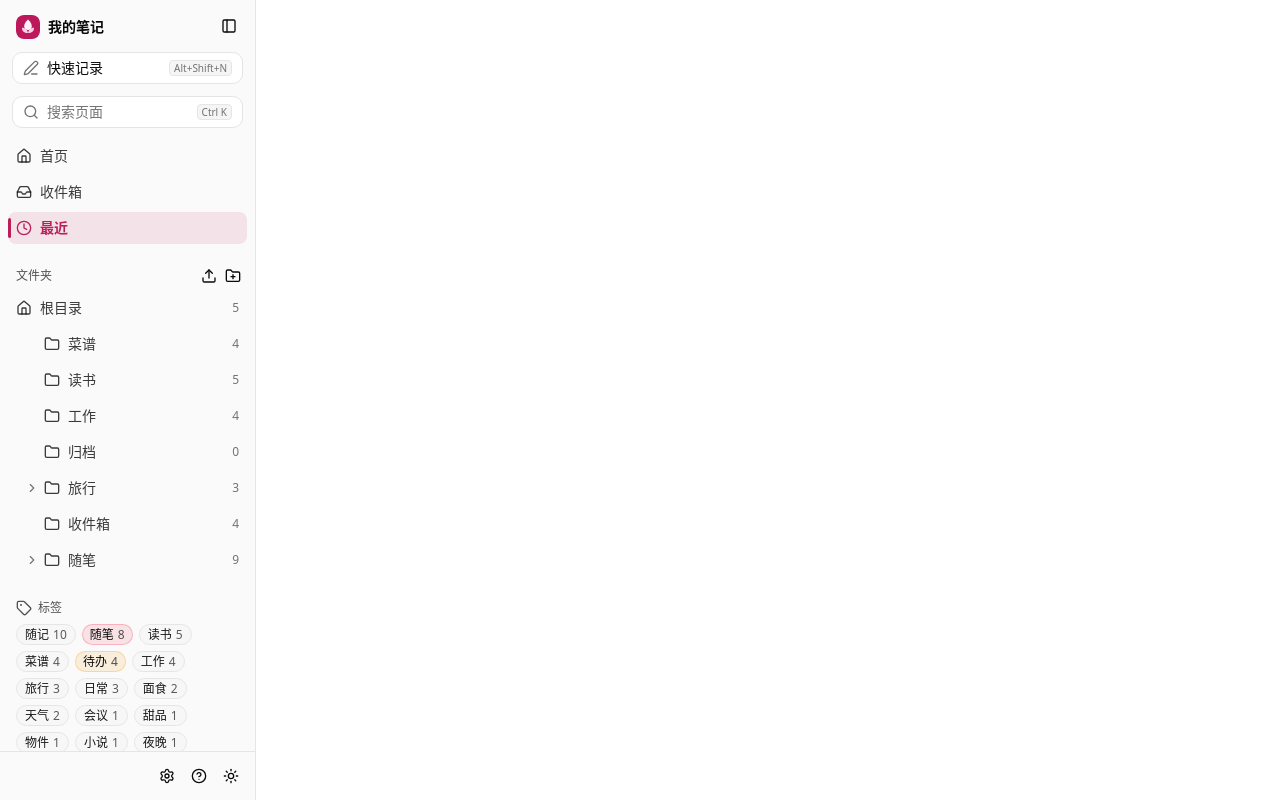
the sidebar tags › Custom… opens a hex dialog; Apply sends the lower-case colour and the tag is tinted and marked
Later steps or results of the test are not shown.
Right-click the link "日常 3": (101, 688) x1=75 y1=678 x2=128 y2=699
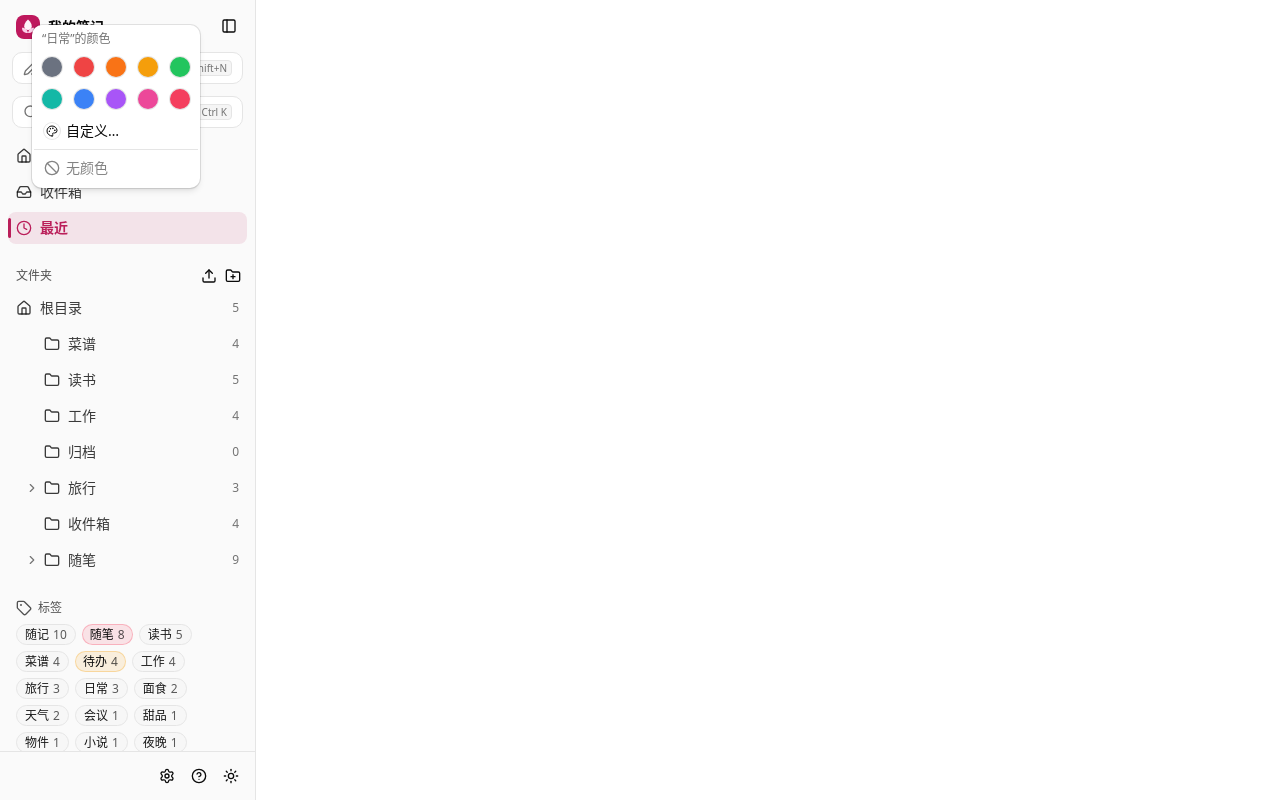
Press the mouse on the menu item "自定义…": (82, 130) x1=44 y1=121 x2=119 y2=140
Click the menu item "自定义…": click(82, 130) x1=44 y1=121 x2=119 y2=140
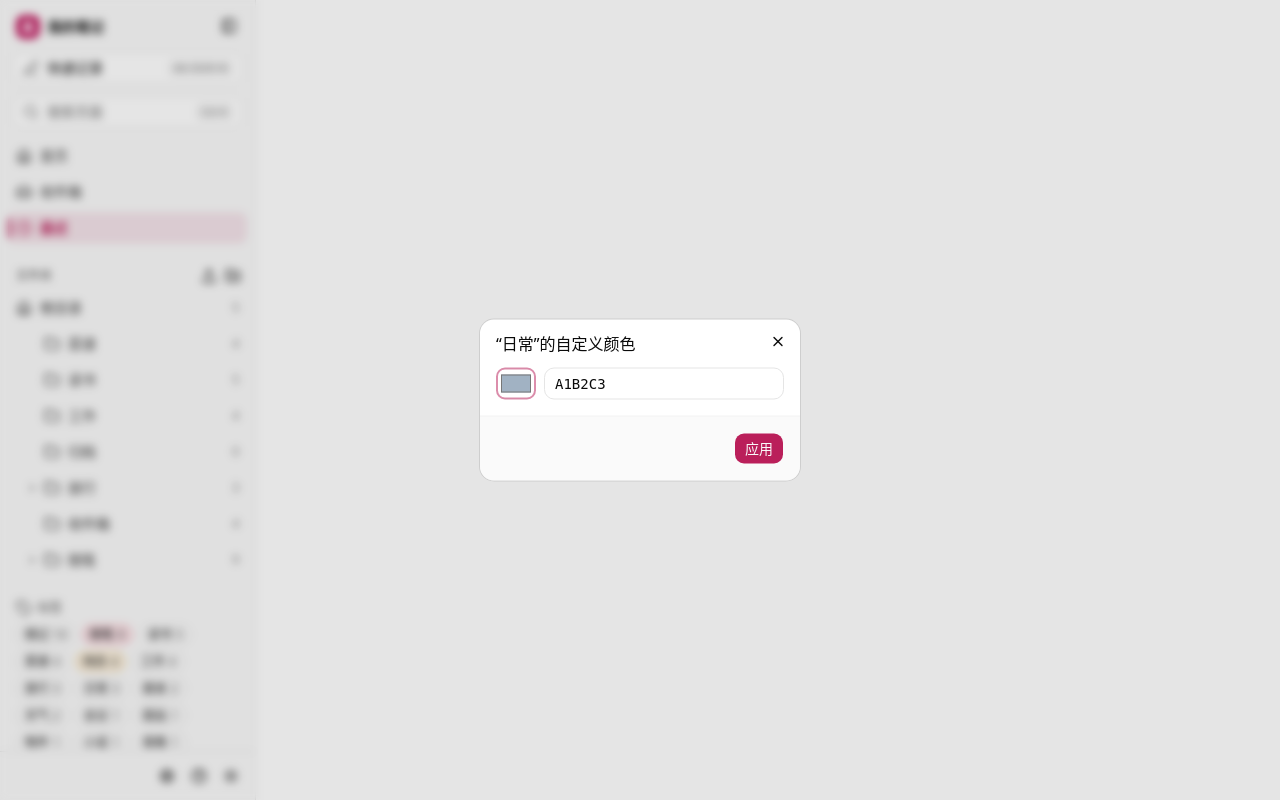
Now the button "应用" is enabled
Press the mouse on the button "应用": (759, 448) x1=734 y1=432 x2=784 y2=464
Click the button "应用": click(759, 448) x1=734 y1=432 x2=784 y2=464
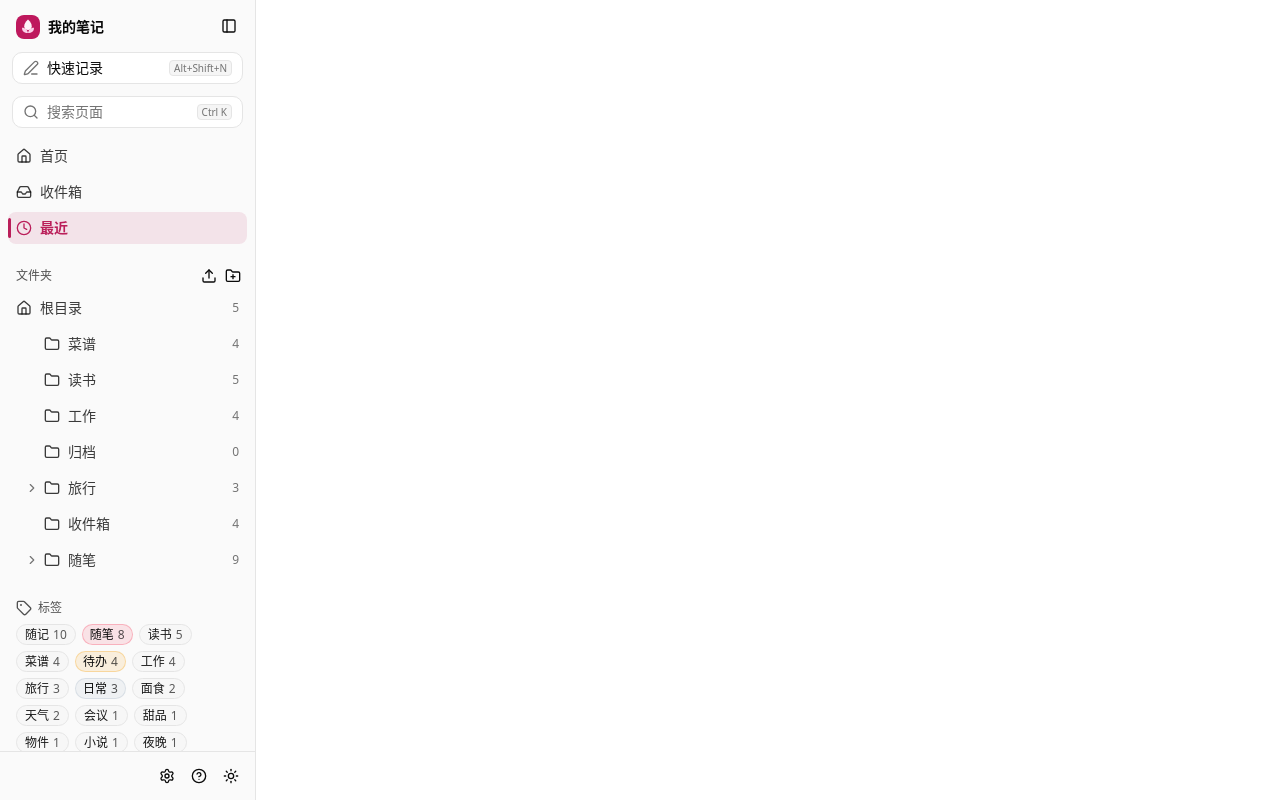
Right-click the link "日常 3": (100, 688) x1=75 y1=678 x2=126 y2=699
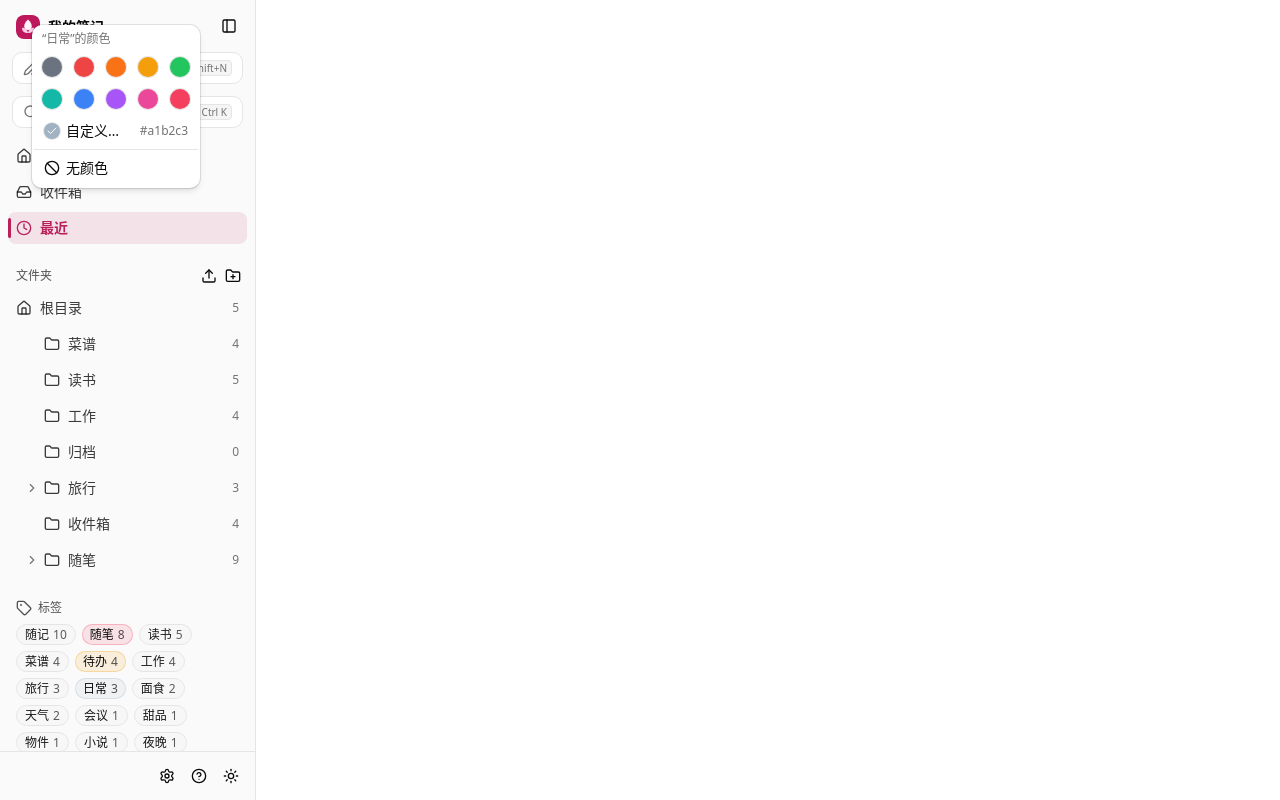
Now the menu item "自定义… #a1b2c3" is shown, box x1=38 y1=117 x2=194 y2=145
